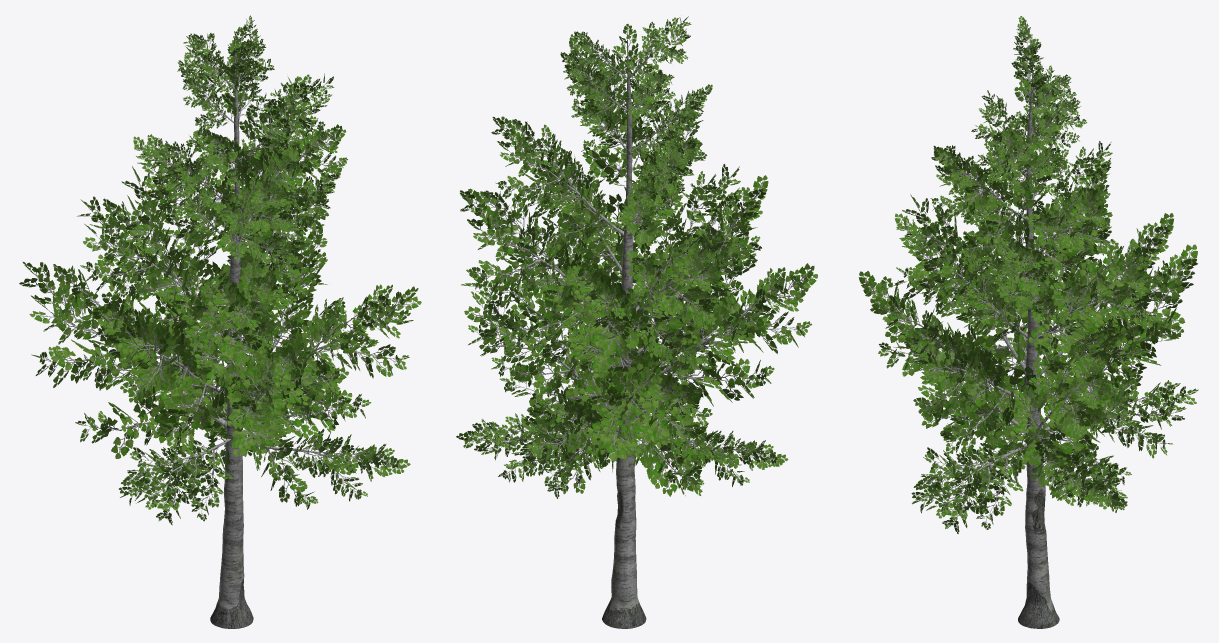
The model's file is pohon2.glb.
3 renders of one model, left to right at view 1: azimuth 30°, elevation 25°; view 2: azimuth 150°, elevation 25°; view 3: azimuth 270°, elevation 25°, orthographic. The views are drawn at different scales.
Parts seen in each view (by area): view 1: node_id33_3, node_id31_0; view 2: node_id33_3, node_id31_0; view 3: node_id33_3, node_id31_0.
Boxes of the visible parts, x1,y1,x2,y2 form: node_id33_3: [19, 15, 421, 525]; node_id31_0: [34, 20, 408, 628]; node_id33_3: [456, 16, 817, 498]; node_id31_0: [466, 22, 804, 628]; node_id33_3: [858, 16, 1198, 533]; node_id31_0: [868, 29, 1189, 628].
Size of the model in its own units: 0.2692 by 0.512 by 0.2818.
Materials: 2 (2 with a texture image).
